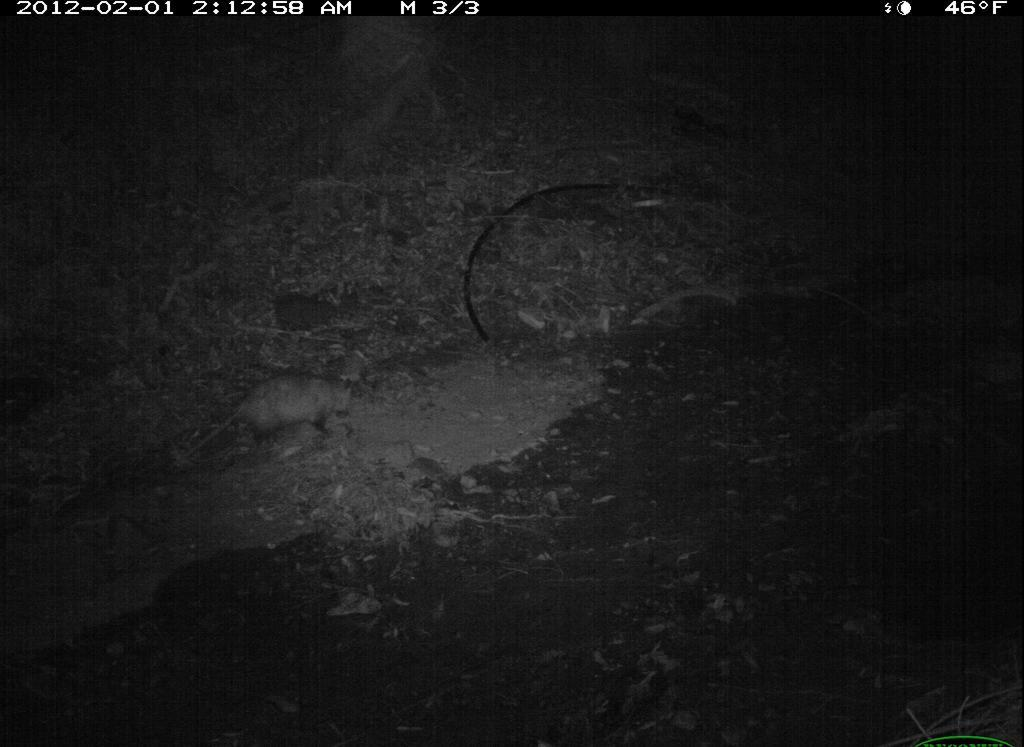opossum: (164, 367, 368, 469)
